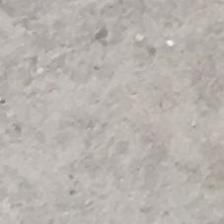Non_Crack: (18, 8, 186, 198)
